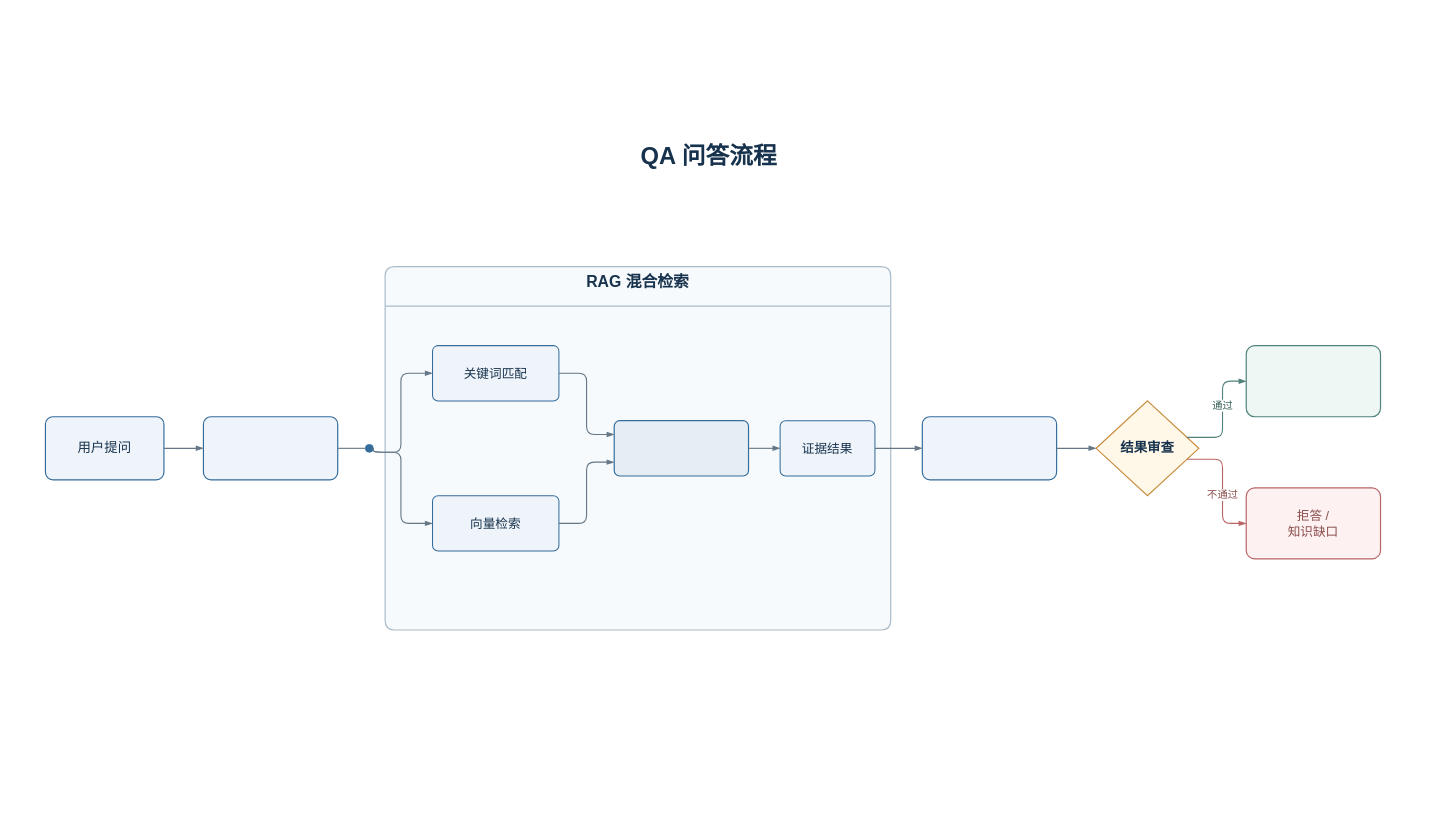
The diagram is 1450 pixels wide and 827 high, and some of its shapes have lost their labels. The shapes that lost their labels are listed below. From the top down, each one's box as (x1, y1, x2, y2) in pixels, then its label:
(1245, 345, 1381, 417): 可信回答 + 来源引用
(202, 416, 338, 480): QA Agent 接收问题
(613, 420, 749, 476): RRF 融合排序
(921, 416, 1057, 480): 模型生成回答
